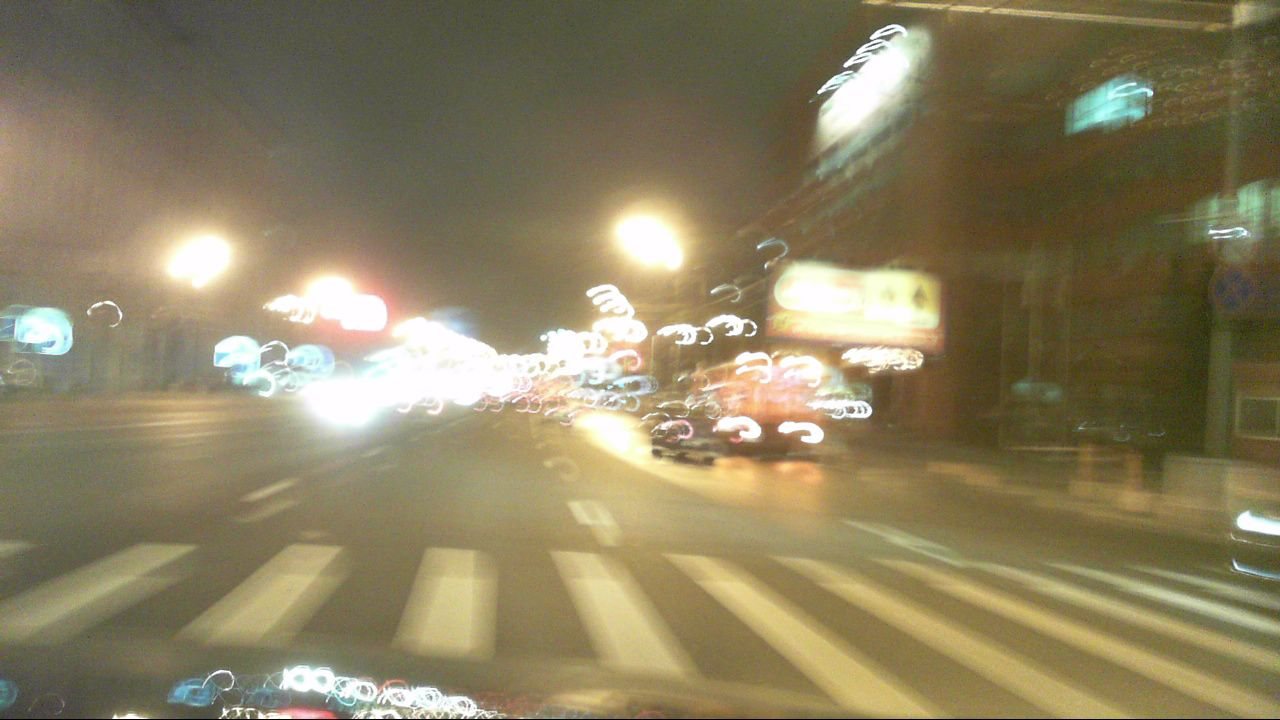No Parking: (1211, 270, 1258, 313)
